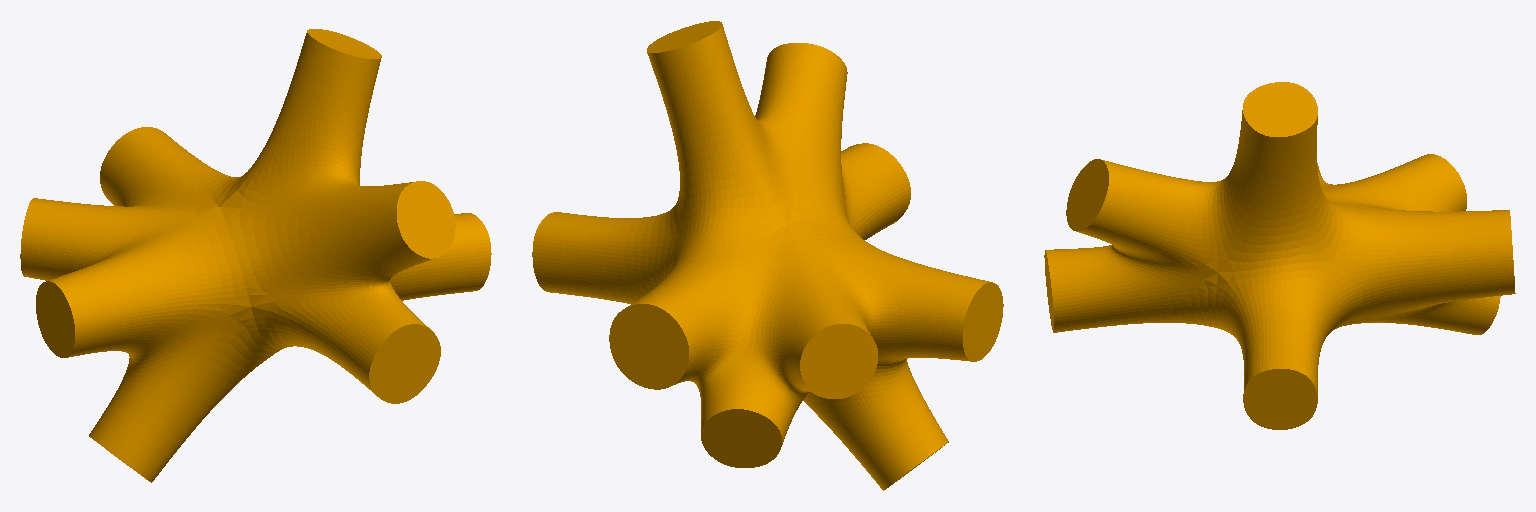
robot.urdf — object:
<robot name="object">
  <link name="object">
    <visual>
      <origin xyz="0 0 0"/>
      <geometry>
        <mesh filename="visual.obj" scale="1 1 1"/>
      </geometry>
    </visual>
    <collision>
      <origin xyz="0 0 0"/>
      <geometry>
        <mesh filename="visual.obj" scale="1 1 1"/>
      </geometry>
    </collision>
    <inertial>
      <mass value="0.05"/>
      <inertia ixx="0.00015676222977048808" iyy="0.00013958870932970736" izz="0.0001966837977173984" ixy="2.957492928316972e-05" ixz="-2.4501100747085196e-05" iyz="1.3737872838755026e-05"/>
    </inertial>
  </link>
</robot>

--- Render facts (derived) ---
The picture shows the robot from 3 angles, left to right: view 1: azimuth 30°, elevation 25°; view 2: azimuth 150°, elevation 25°; view 3: azimuth 270°, elevation 25°; orthographic projection.
Robot: object — 1 links, 0 joints (none); root link object; default pose: all joints at 0.
Links seen in each view (by area): view 1: object; view 2: object; view 3: object.
Link boxes in pixels (x1,y1,x2,y2): object: (20, 29, 491, 482); object: (532, 21, 1003, 490); object: (1044, 82, 1515, 429).
Size in the robot's own frame: 0.2332 by 0.2343 by 0.2108 metres.
Meshes: 1 distinct files referenced, 1 mesh visuals loaded (1 OBJ).
